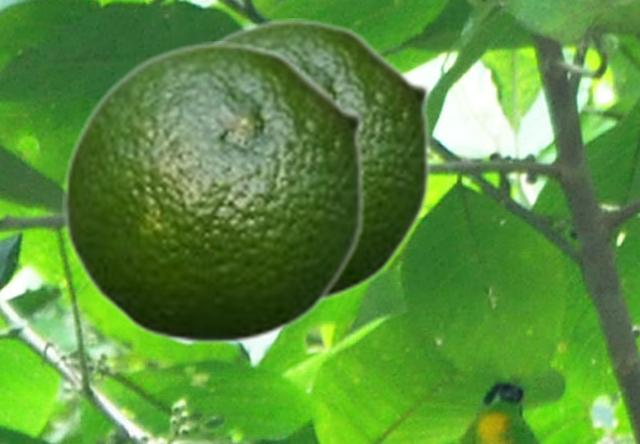calamansi: (62, 41, 366, 345), (208, 18, 432, 304)
